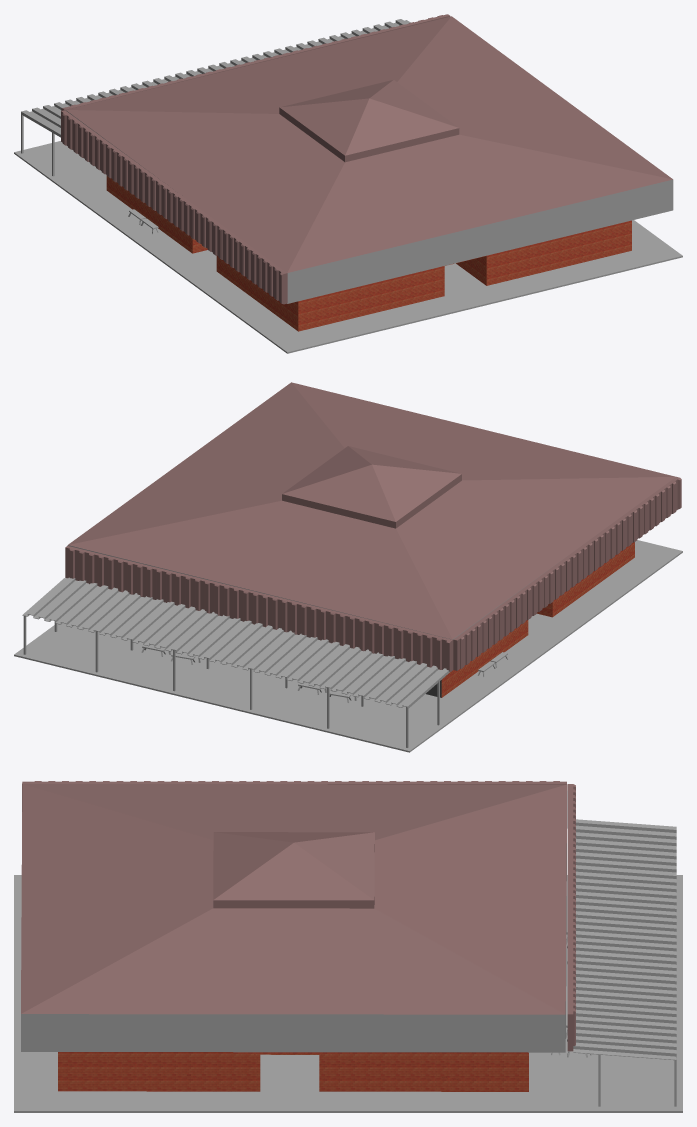
The model's file is Gedung.fbx.
The picture shows the model from 3 angles, top to bottom: view 1: azimuth 30°, elevation 25°; view 2: azimuth 150°, elevation 25°; view 3: azimuth 270°, elevation 25°; orthographic projection. The views are drawn at different scales.
Parts seen in each view (by area): view 1: pCube7, pPlane2, pCube2, pPlane3, pCube3; view 2: pCube7, pPlane2, pPlane3, pCube3, pCube2; view 3: pCube7, pPlane2, pPlane3, pCube3, pCube2.
Part boxes in pixels (x1,y1,x2,y2): pCube7: (65,16,673,331); pPlane2: (14,141,682,353); pCube2: (61,110,287,304); pPlane3: (21,19,410,137); pCube3: (61,14,450,110); pCube7: (67,382,675,697); pPlane2: (14,540,682,752); pPlane3: (22,577,449,708); pCube3: (65,546,453,671); pCube2: (453,476,681,670); pCube7: (21,784,567,1091); pPlane2: (14,875,682,1112); pPlane3: (573,819,676,1060); pCube3: (567,784,575,1051); pCube2: (22,781,566,811).
Size of the model in its own units: 41.91 by 12.46 by 49.89.
Materials: 4 (1 with a texture image).
